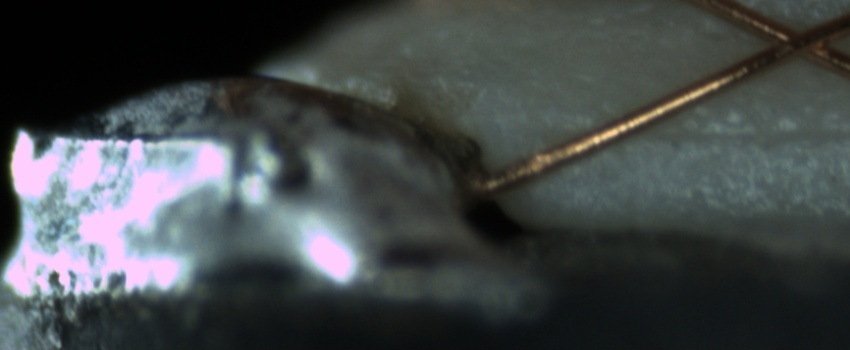CL: (747, 13, 840, 70)
DL: (552, 97, 850, 164)
